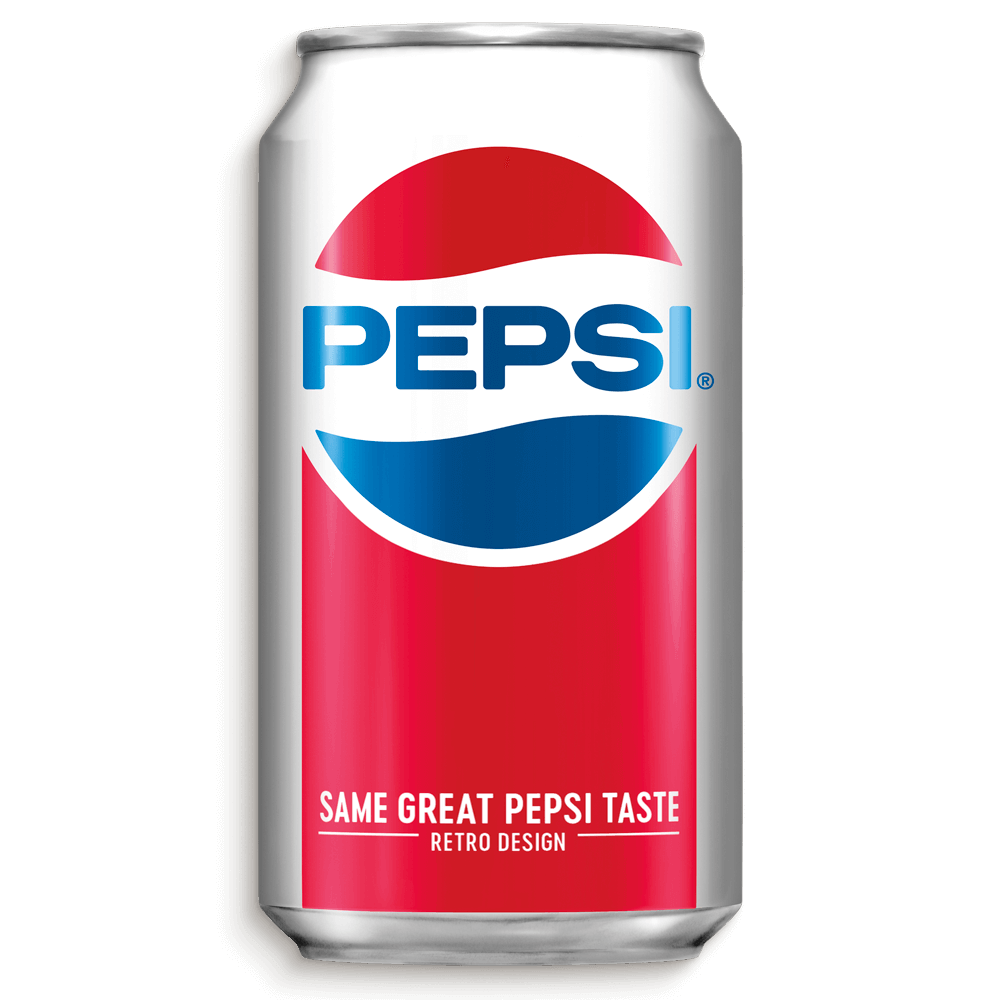pepsi: (303, 127, 697, 548)
